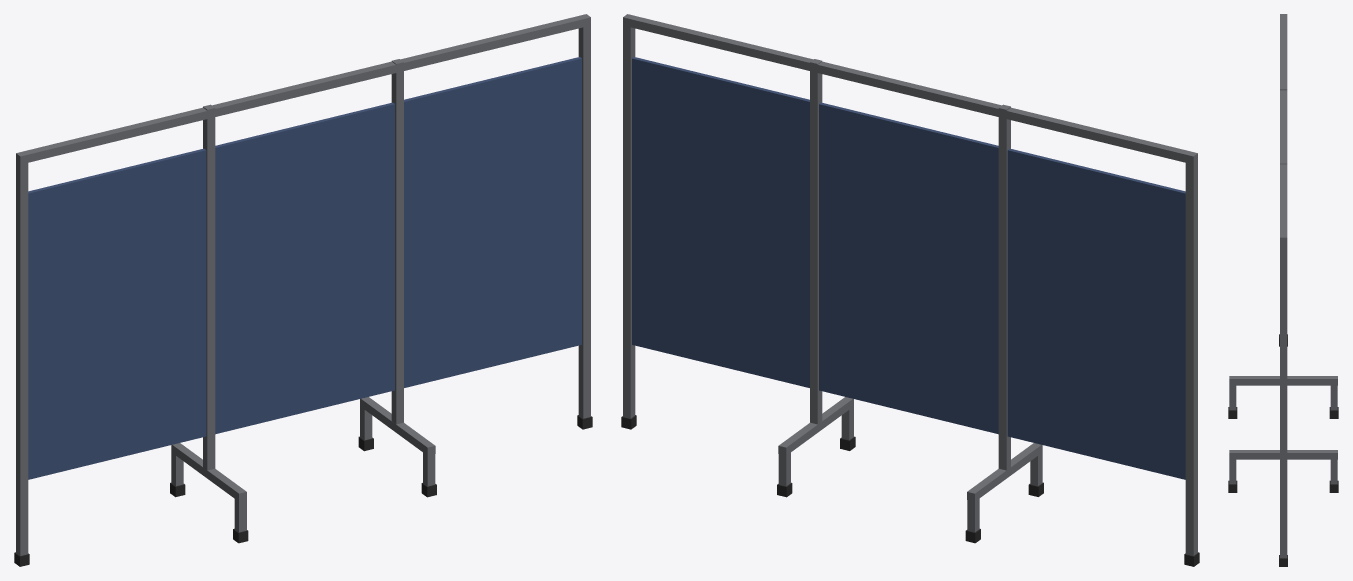
The model's file is SEPARADOR.fbx.
The picture shows the model from 3 angles, left to right: view 1: azimuth 30°, elevation 25°; view 2: azimuth 150°, elevation 25°; view 3: azimuth 270°, elevation 25°; orthographic projection. The views are drawn at different scales.
Parts seen in each view (by area): view 1: pCube35, pCube36, pCube34, pCube1, pCube6, pCube11, pCube5, pCube2, pCube7, pCube4, pCube31, pCube10; view 2: pCube35, pCube36, pCube34, pCube1, pCube6, pCube11, pCube5, pCube4, pCube2, pCube7, pCube31, pCube10; view 3: pCube6, pCube10, pCube31, pCube7, pCube2, pCube4, pCube14, pCube18, pCube29, pCube32.
Part boxes in pixels (<box>): pCube35: <box>215,102,394,434</box>; pCube36: <box>28,148,206,479</box>; pCube34: <box>404,57,581,387</box>; pCube1: <box>16,155,28,555</box>; pCube6: <box>578,18,590,418</box>; pCube11: <box>203,104,215,477</box>; pCube5: <box>391,59,403,424</box>; pCube2: <box>16,107,215,164</box>; pCube7: <box>392,14,590,71</box>; pCube4: <box>209,61,403,118</box>; pCube31: <box>360,397,435,455</box>; pCube10: <box>171,443,246,501</box>; pCube35: <box>819,102,998,434</box>; pCube36: <box>1007,148,1185,479</box>; pCube34: <box>632,57,809,387</box>; pCube1: <box>1185,154,1197,555</box>; pCube6: <box>623,18,635,418</box>; pCube11: <box>998,104,1010,470</box>; pCube5: <box>810,59,822,424</box>; pCube4: <box>810,61,1005,118</box>; pCube2: <box>998,107,1197,163</box>; pCube7: <box>623,14,821,70</box>; pCube31: <box>778,397,853,455</box>; pCube10: <box>967,443,1042,501</box>; pCube6: <box>1280,238,1287,558</box>; pCube10: <box>1229,376,1337,385</box>; pCube31: <box>1229,450,1337,459</box>; pCube7: <box>1280,164,1287,243</box>; pCube2: <box>1280,14,1287,90</box>; pCube4: <box>1280,90,1287,160</box>; pCube14: <box>1330,385,1337,410</box>; pCube18: <box>1229,385,1236,410</box>; pCube29: <box>1330,459,1337,484</box>; pCube32: <box>1229,459,1236,484</box>.
Bounding box in the file's own units: 146 × 100 × 30.45.
